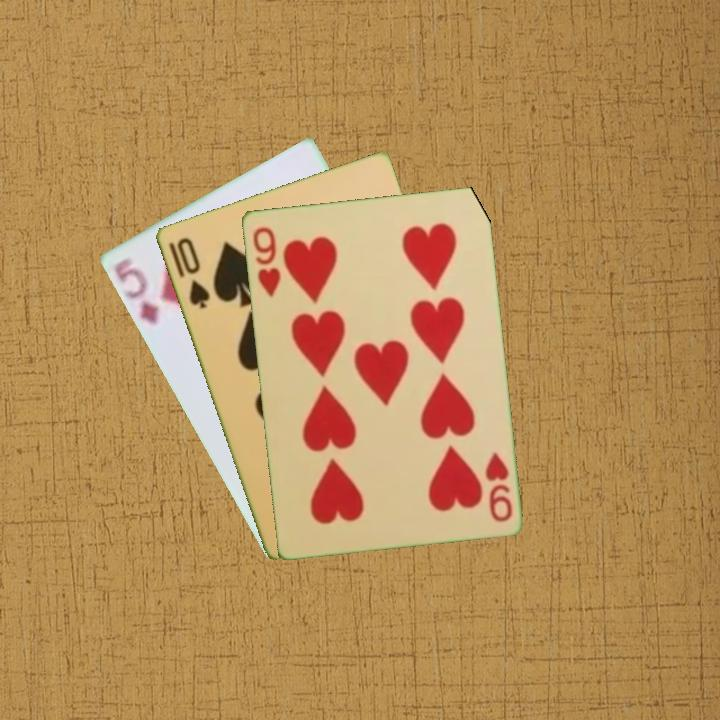10s: (172, 233, 212, 312)
5d: (110, 253, 162, 328)
9h: (248, 223, 283, 300), (481, 448, 515, 525)
